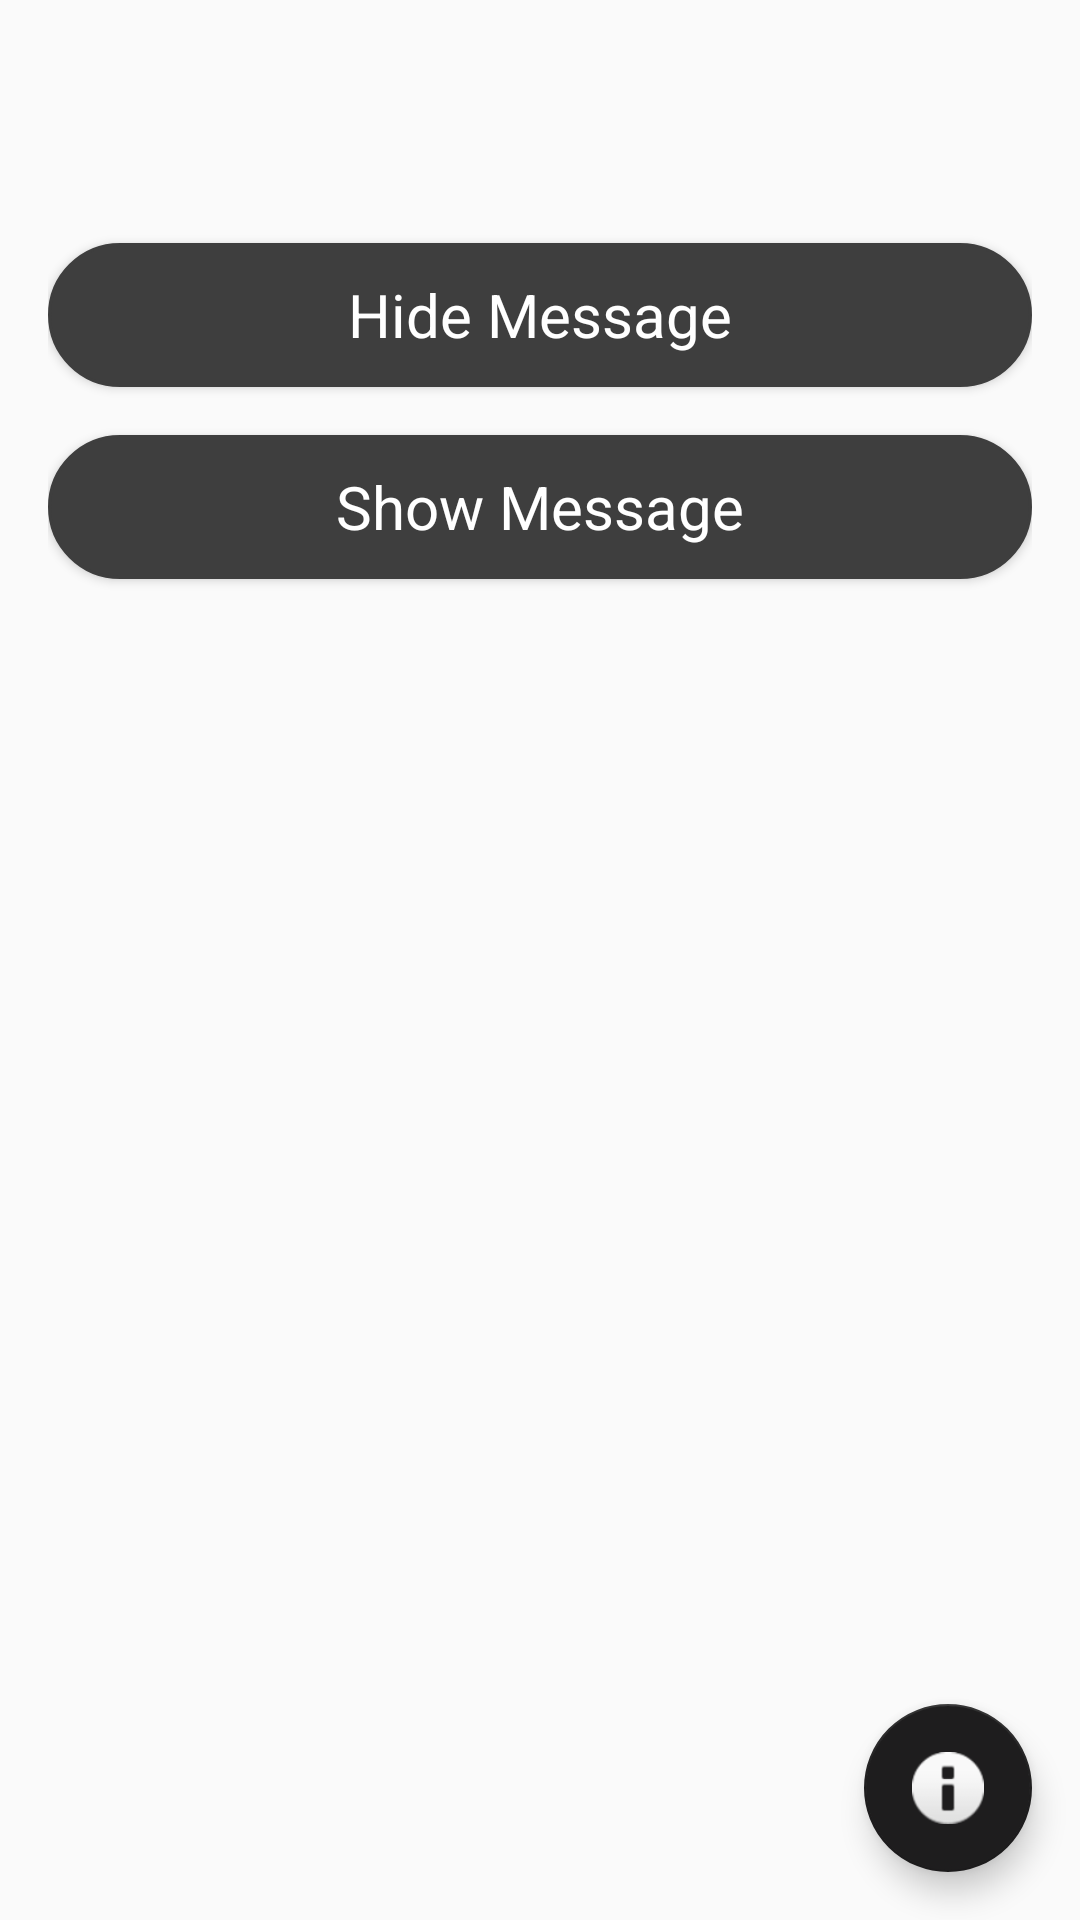

Screen size 1080×1920. Icon name, then its box in pixels as (x1, y1, x2, y2):
info: (864, 1704, 1032, 1872)
